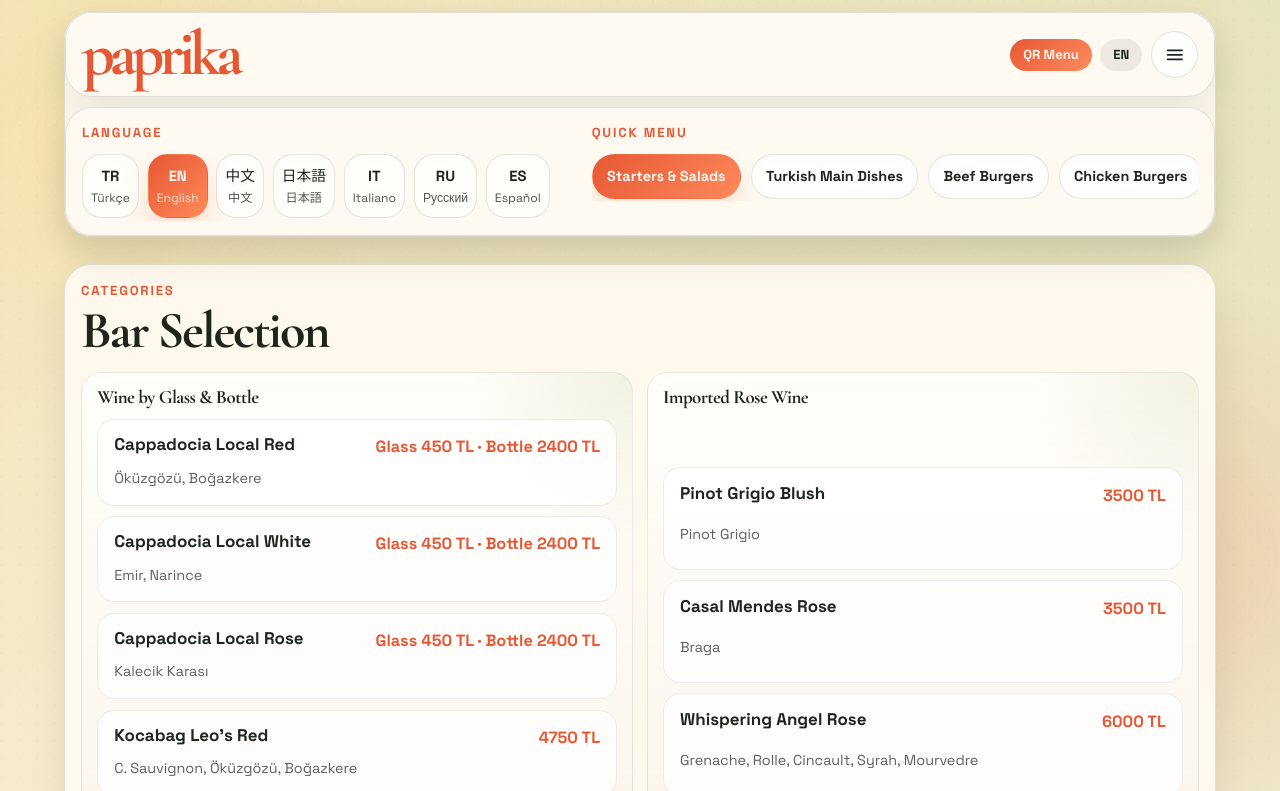
Test case: Paprika menu › renders localized menu item names for {}
Click the button named "Open menu": (1174, 55) [1151,31,1198,78]
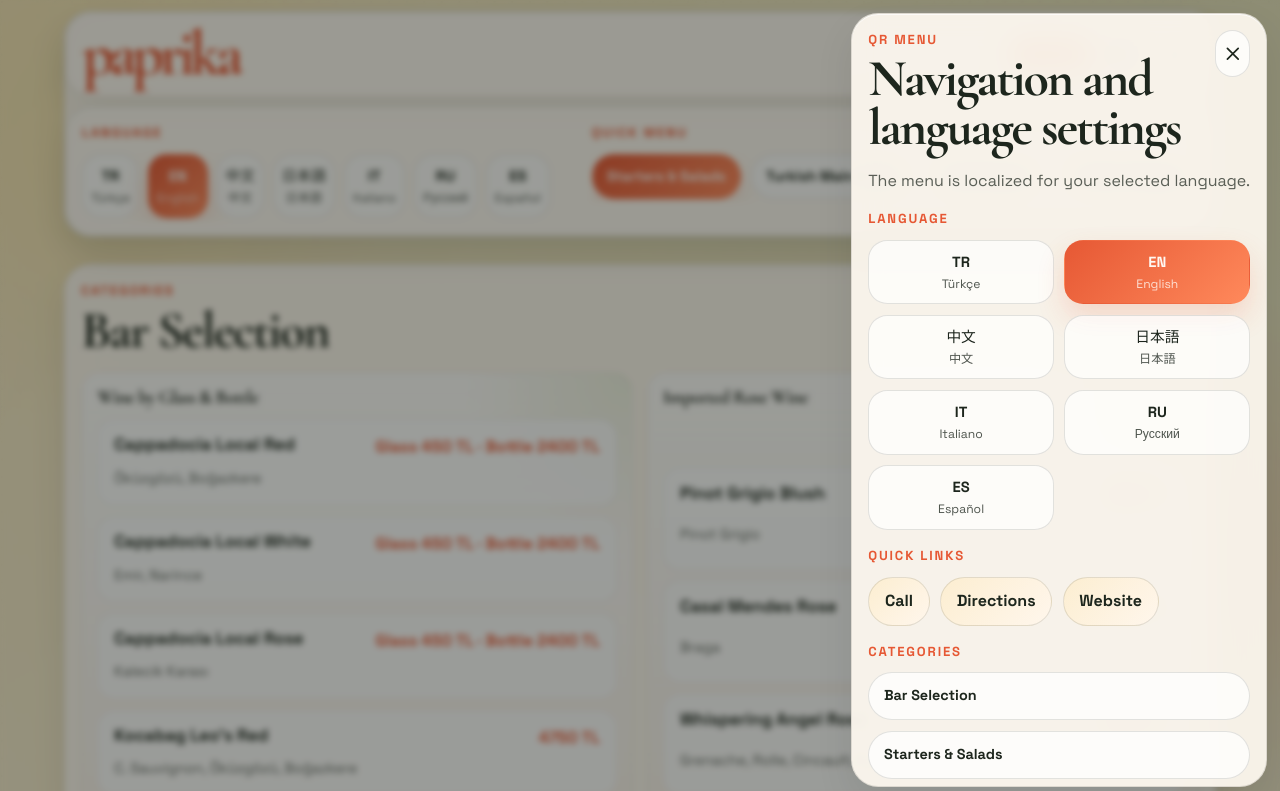
Click the button "中文 中文": (961, 347) [868,315,1054,380]
(page scrolled)
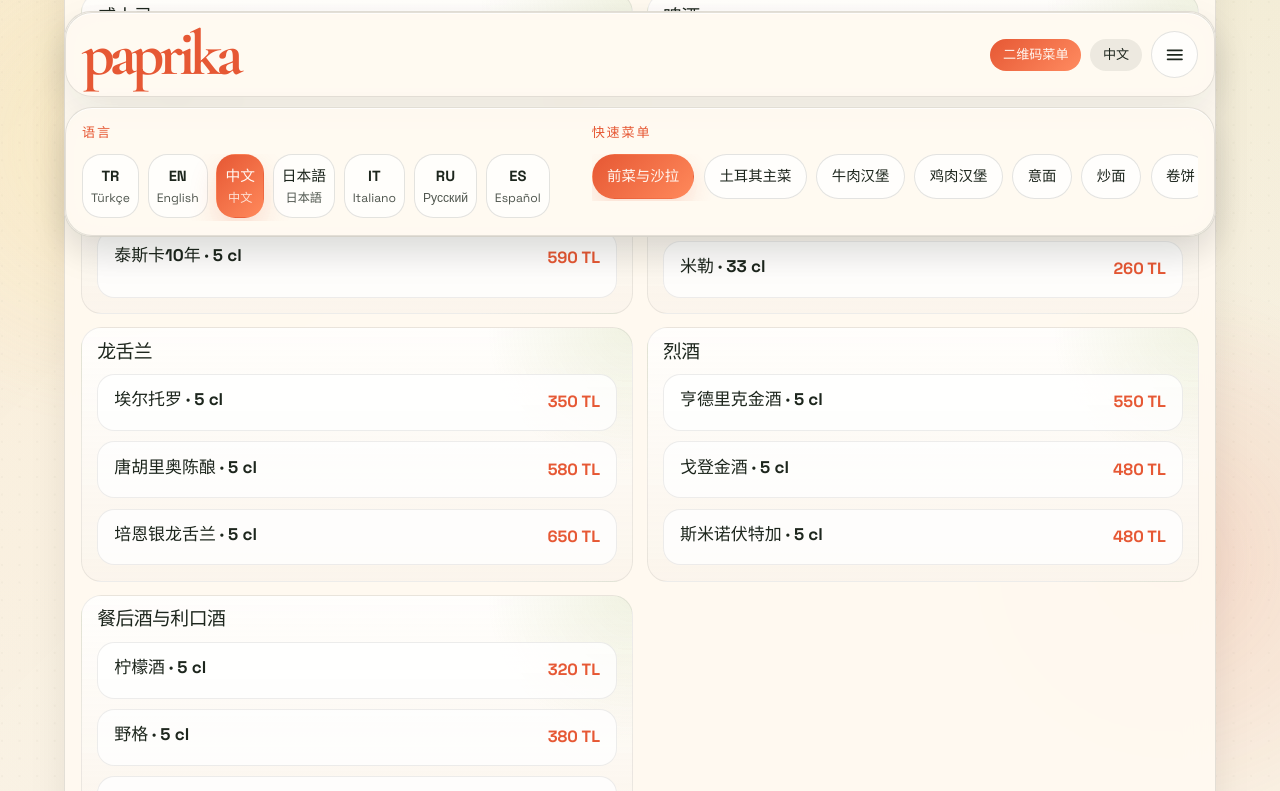
Now the button named "打开菜单" is shown, box [1151,31,1198,78]
Now the text "快速菜单" is shown, box [592,124,652,141]
Now the heading "亨德里克金酒 · 5 cl" is shown, box [680,390,823,410]
